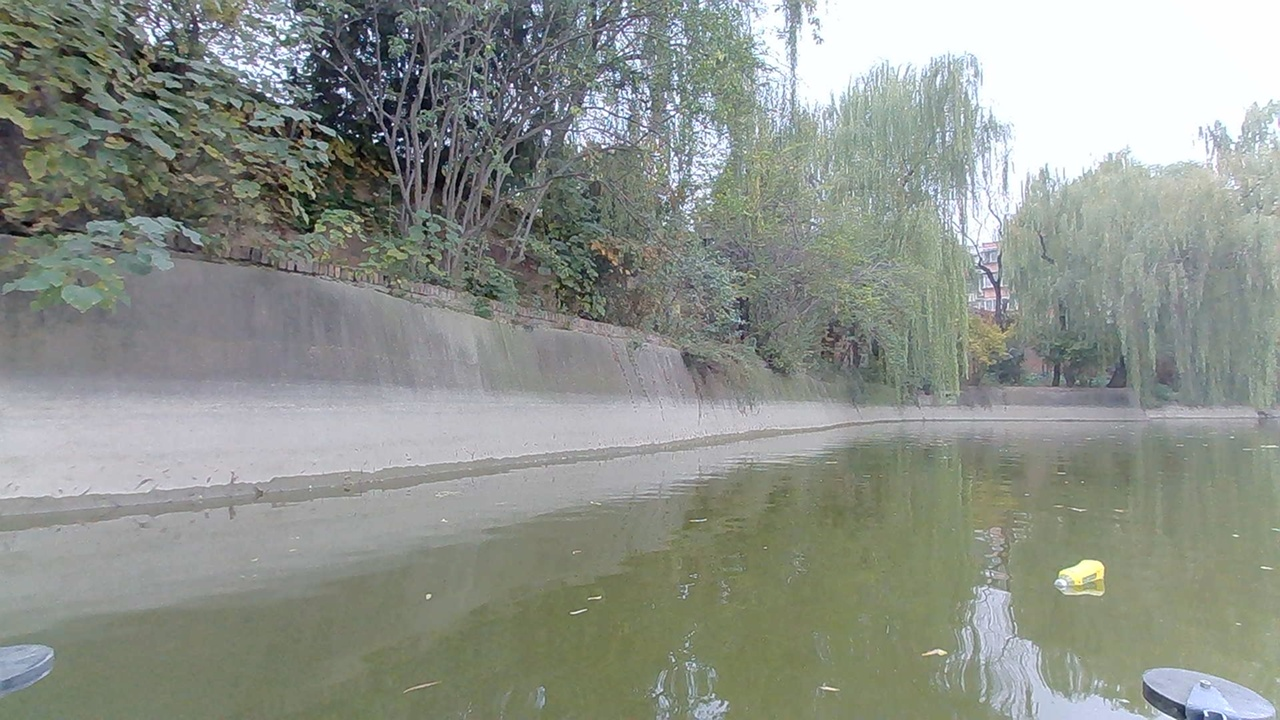bottle: (1045, 548, 1119, 601)
